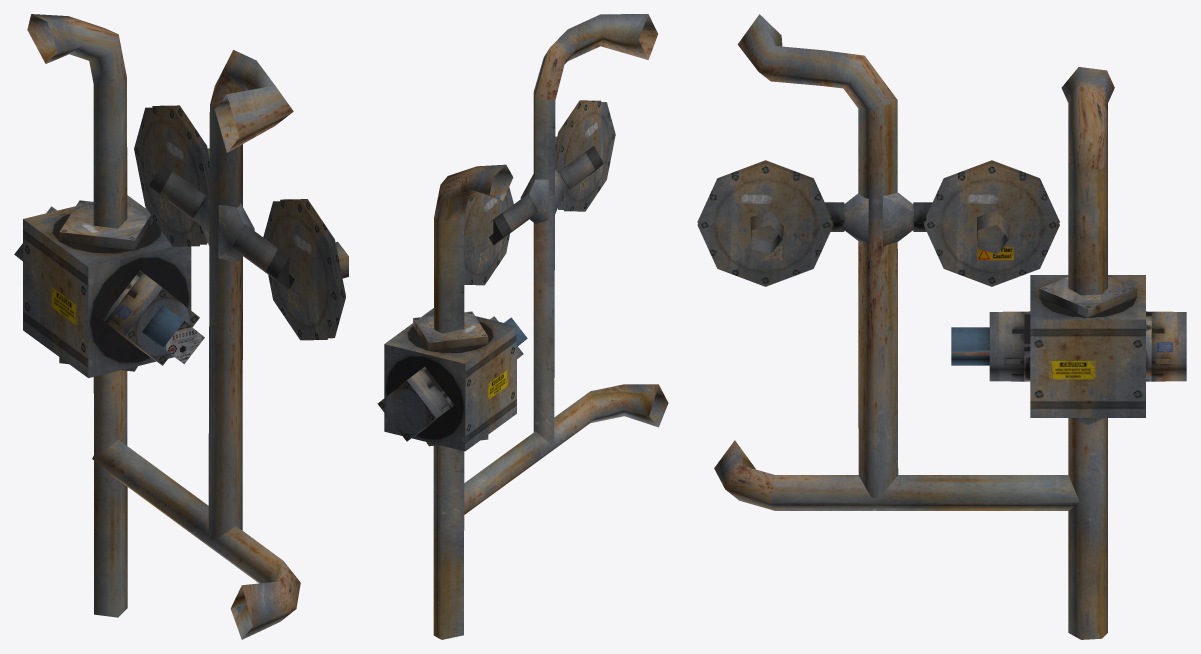
Rendered from p6_water_pipe_01_lod2.glb.
The picture shows the model from 3 angles, left to right: view 1: azimuth 30°, elevation 25°; view 2: azimuth 150°, elevation 25°; view 3: azimuth 270°, elevation 25°; orthographic projection. The views are drawn at different scales.
Parts seen in each view (by area): view 1: surf0; view 2: surf0; view 3: surf0.
Boxes of the visible parts, x1=… form: surf0: x1=14, y1=14, x2=348, y2=639; surf0: x1=377, y1=14, x2=668, y2=639; surf0: x1=697, y1=14, x2=1186, y2=639.
Size of the model in its own units: 8.94 by 48.56 by 36.46.
